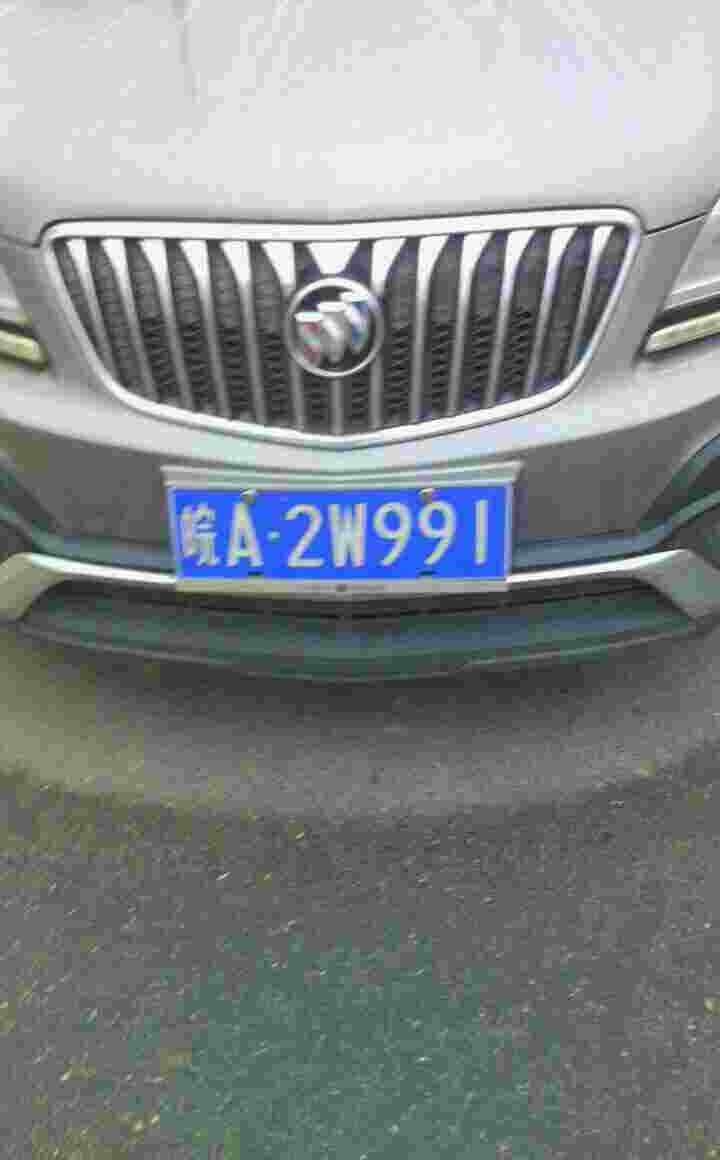license_plate: (173, 483, 507, 585)
